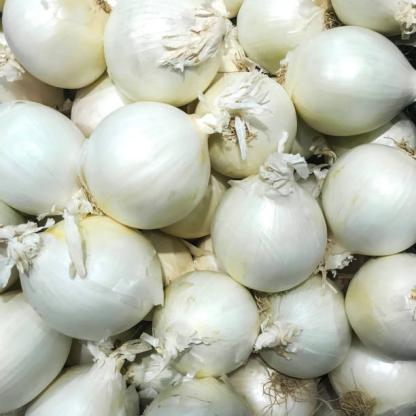onion: (81, 102, 223, 226), (274, 38, 416, 138), (157, 270, 259, 384)
